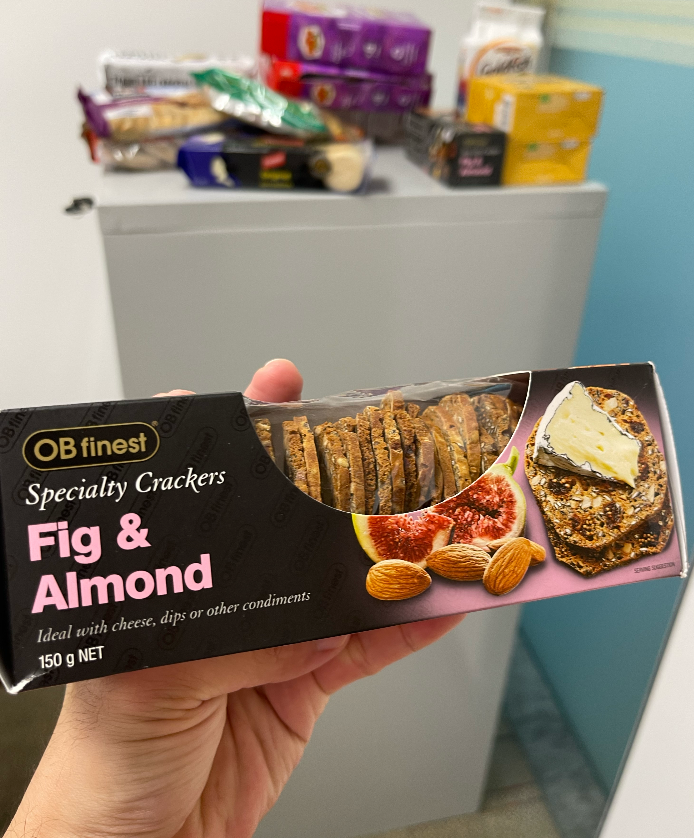crackers_100g-199g: (18, 399, 656, 606)
